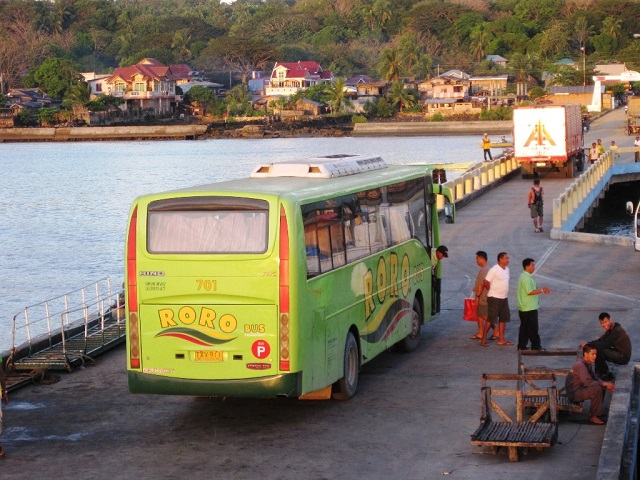bus: (124, 156, 456, 400)
person: (569, 348, 614, 422), (518, 258, 550, 348), (587, 310, 637, 366), (487, 251, 512, 346), (472, 250, 489, 337), (529, 179, 547, 233), (431, 245, 448, 270)
